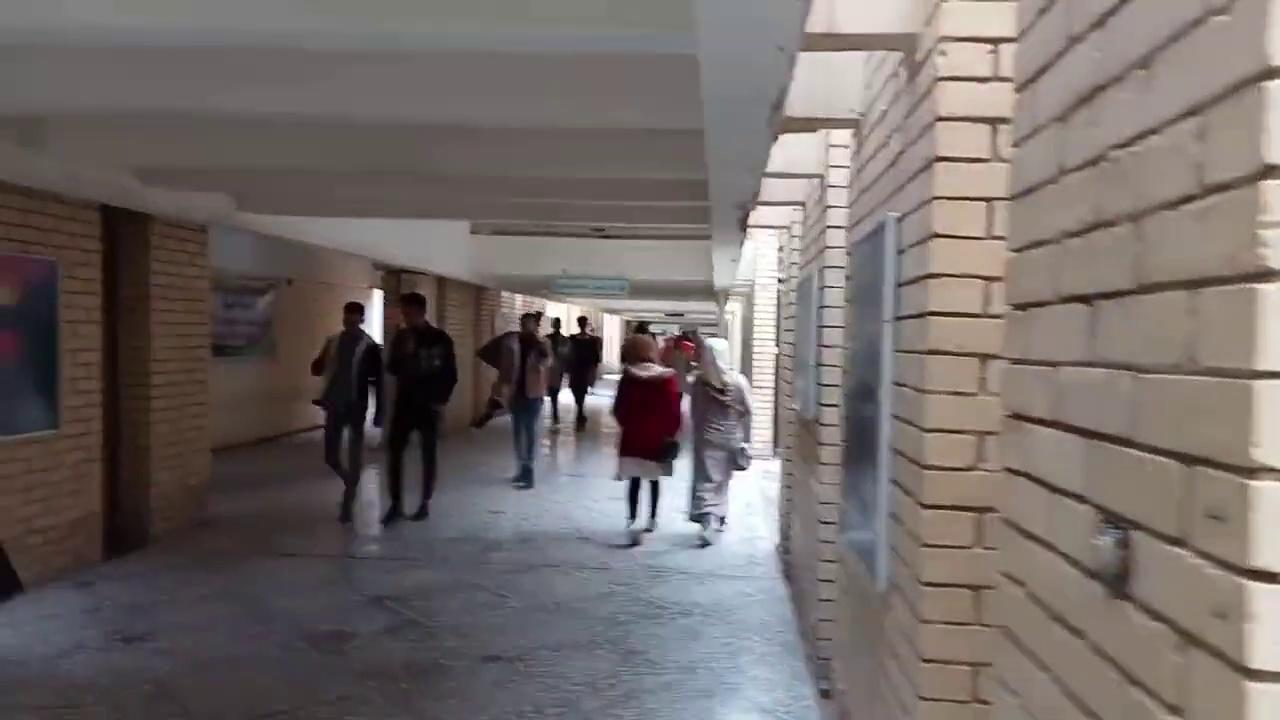person: (379, 291, 458, 526), (309, 300, 384, 523), (610, 333, 682, 532), (687, 336, 753, 547), (496, 311, 553, 488), (566, 315, 602, 425), (543, 316, 569, 424)
